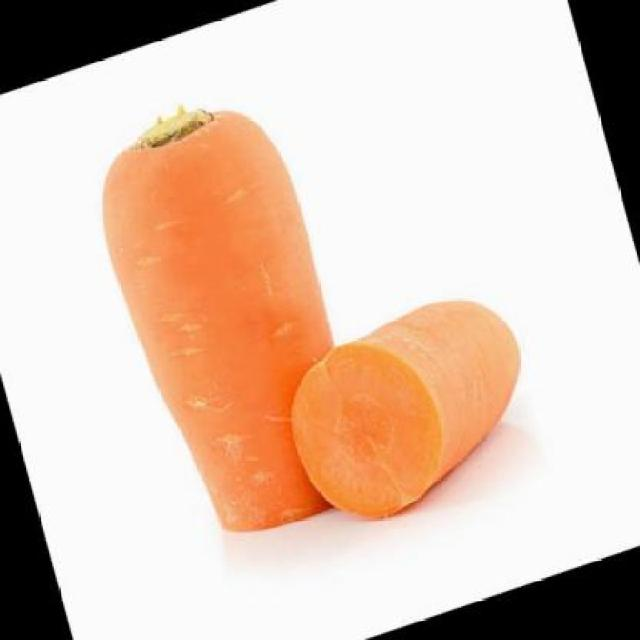carrot: (78, 75, 379, 558), (272, 280, 550, 542)
